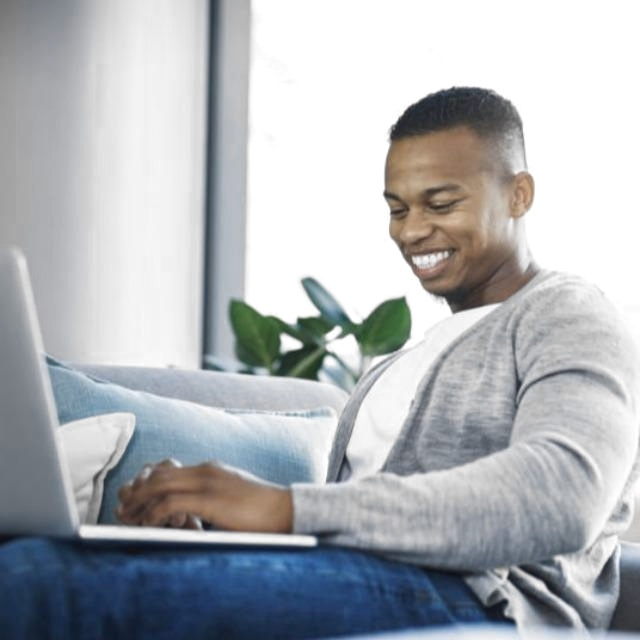Sin_Casco_Mascarrilla: (382, 84, 533, 301)
